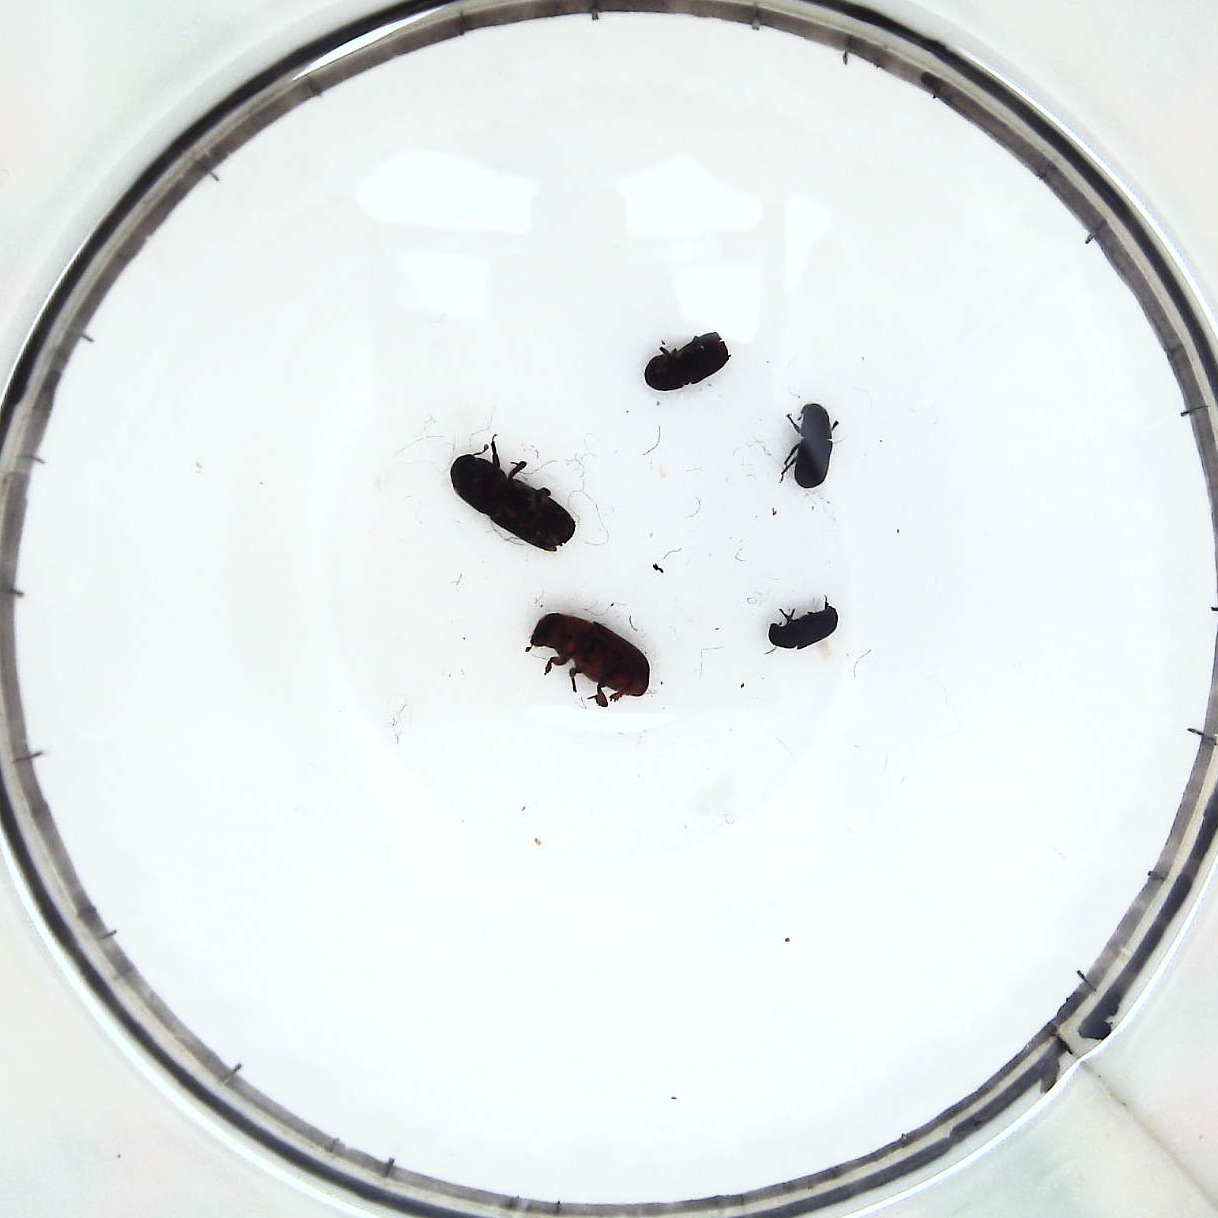Boerner: (449, 443, 582, 555)
Leconte: (523, 613, 656, 710)
Linnaeus: (639, 333, 733, 395)
armandi: (784, 404, 841, 487)
coleoptera: (768, 605, 842, 658)
